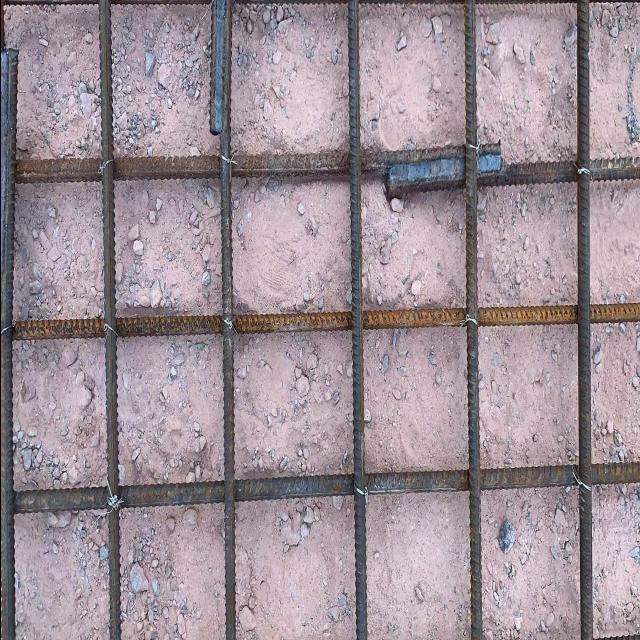ribbed bar: (12, 458, 640, 519), (11, 302, 640, 344), (10, 155, 640, 183), (98, 1, 122, 640), (215, 1, 237, 640), (347, 1, 368, 640), (464, 1, 483, 640), (577, 1, 593, 640), (1, 1, 17, 640)
